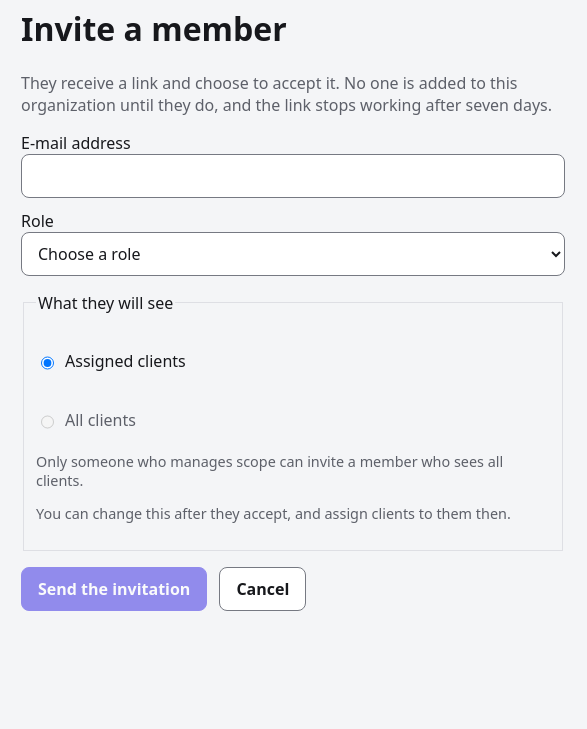
InviteMemberScreen — the address › says what already_member means to the person inviting
The width and height of the screenshot is (587, 729).
In the field labelled "E-mail address": coordinates (293, 176) x1=21 y1=154 x2=565 y2=198, type "aya@x.com"
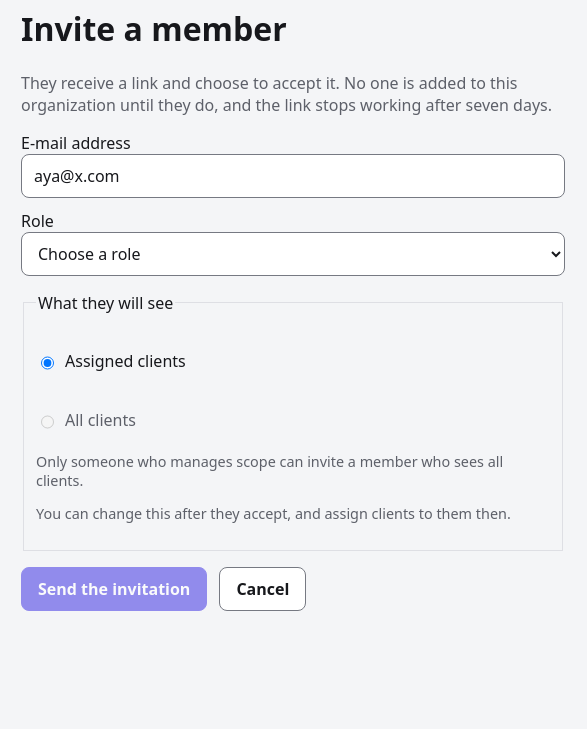
Select "Viewer" in the dropdown labelled "Role": coordinates (293, 254) x1=21 y1=232 x2=565 y2=276
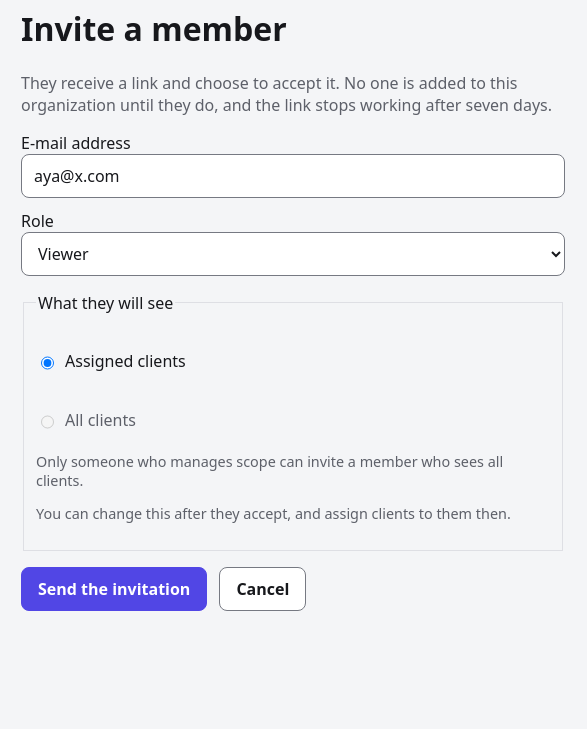
Click the button "Send the invitation": coordinates (114, 589) x1=21 y1=567 x2=207 y2=611
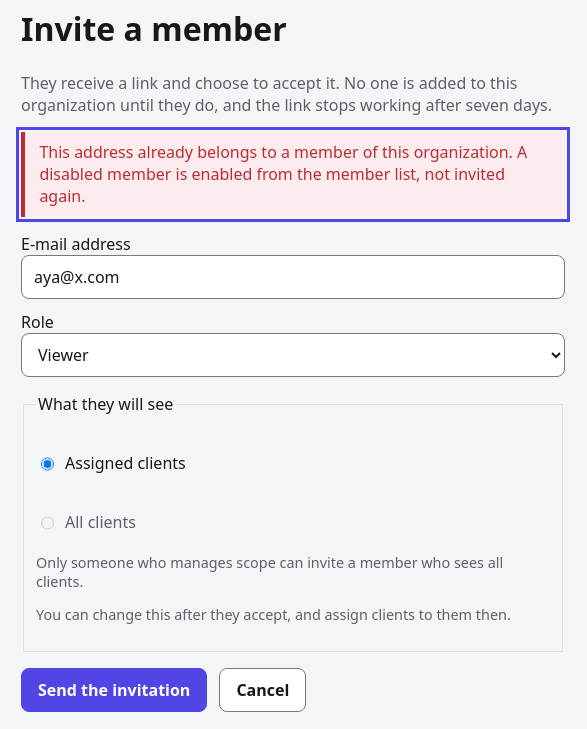
Now the text "This address already belongs to a member of this organization. A disabled member is enabled from the member list, not in" is shown, box x1=39 y1=142 x2=527 y2=208
